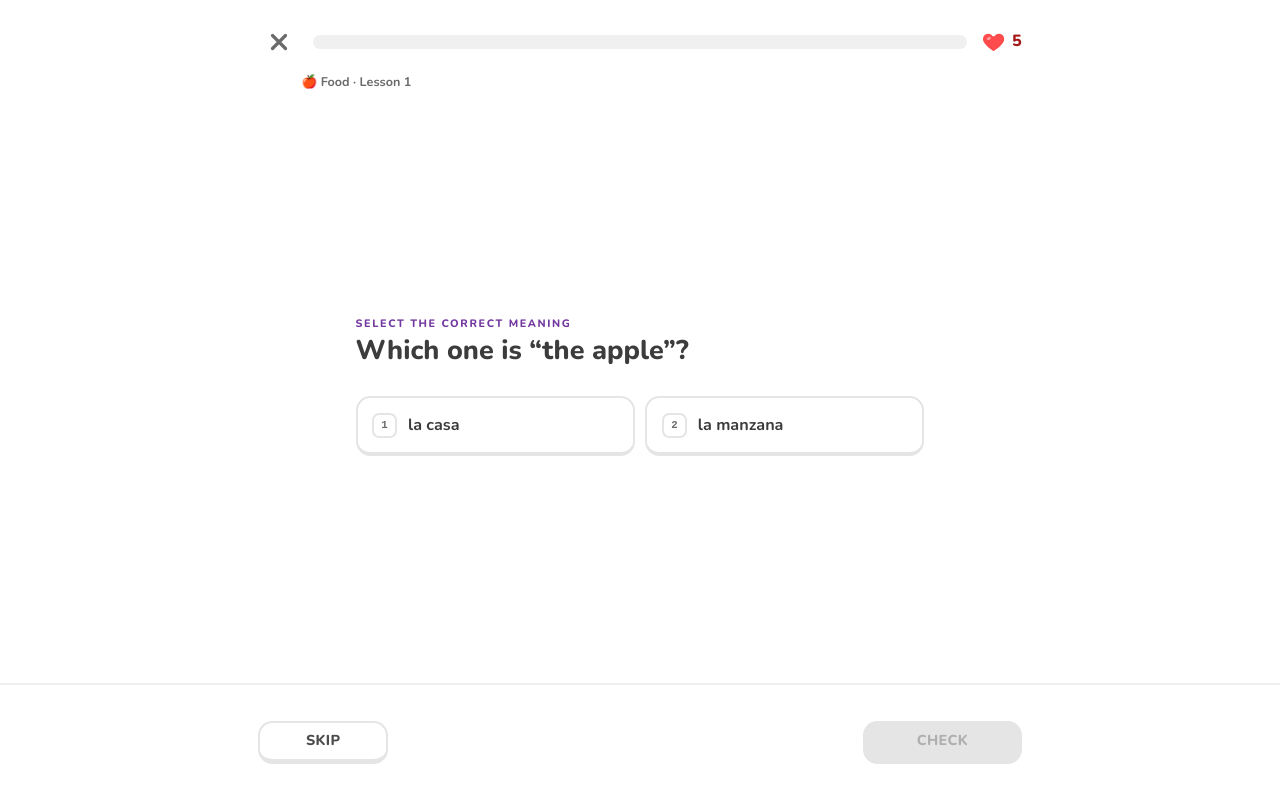
LessonPlayer › shows the out-of-hearts modal when the last heart is lost
Step 1. Click the radio button labelled "1 la casa" → [434, 425], box [356,396,635,456]
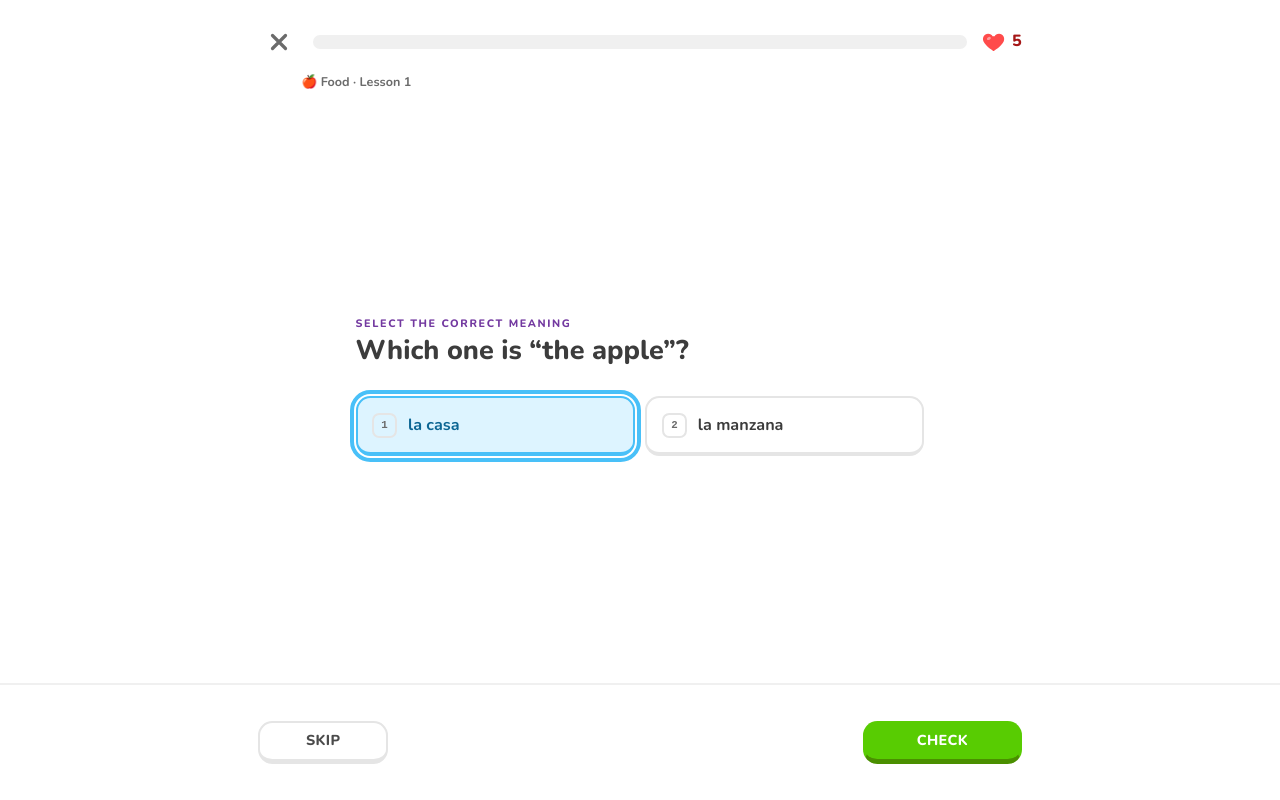
Step 2. Click the button "Check" → [942, 742], box [863,721,1022,764]
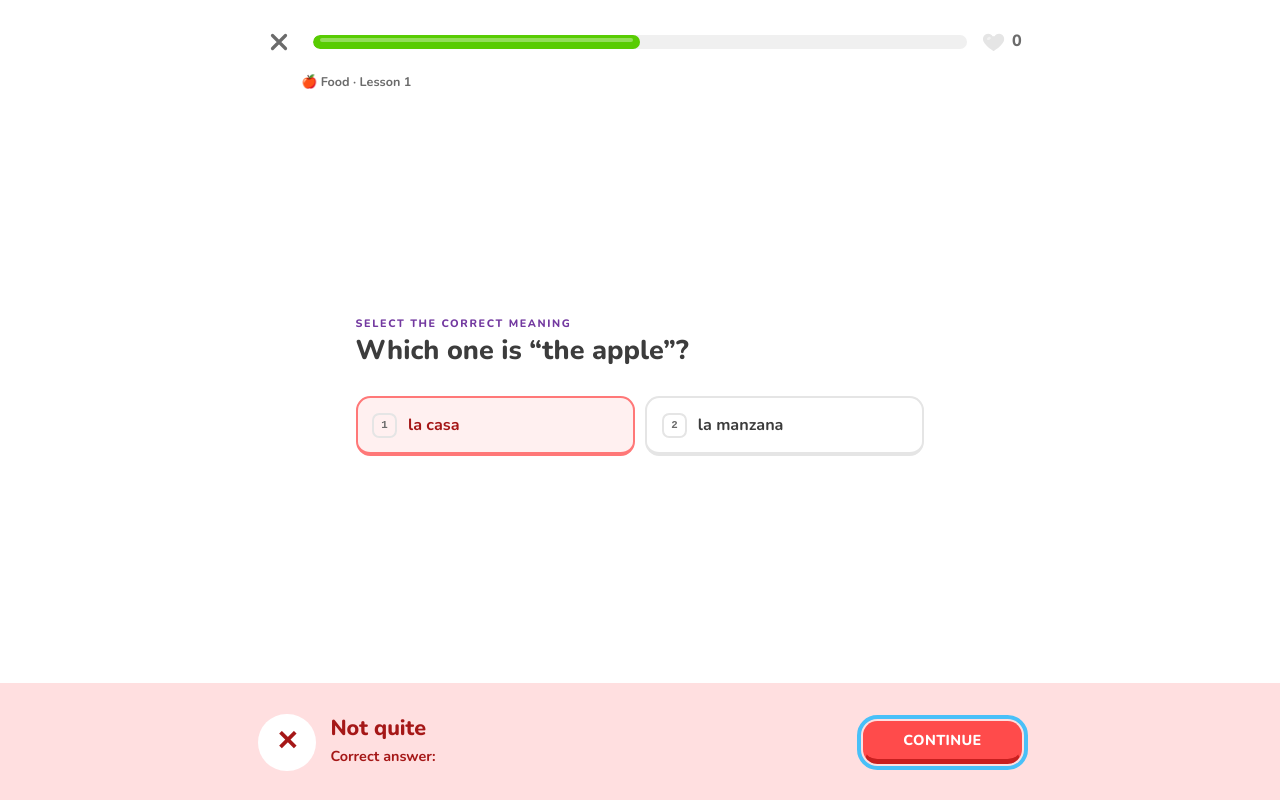
Step 3. Click the button "Continue" → [942, 742], box [863,721,1022,764]
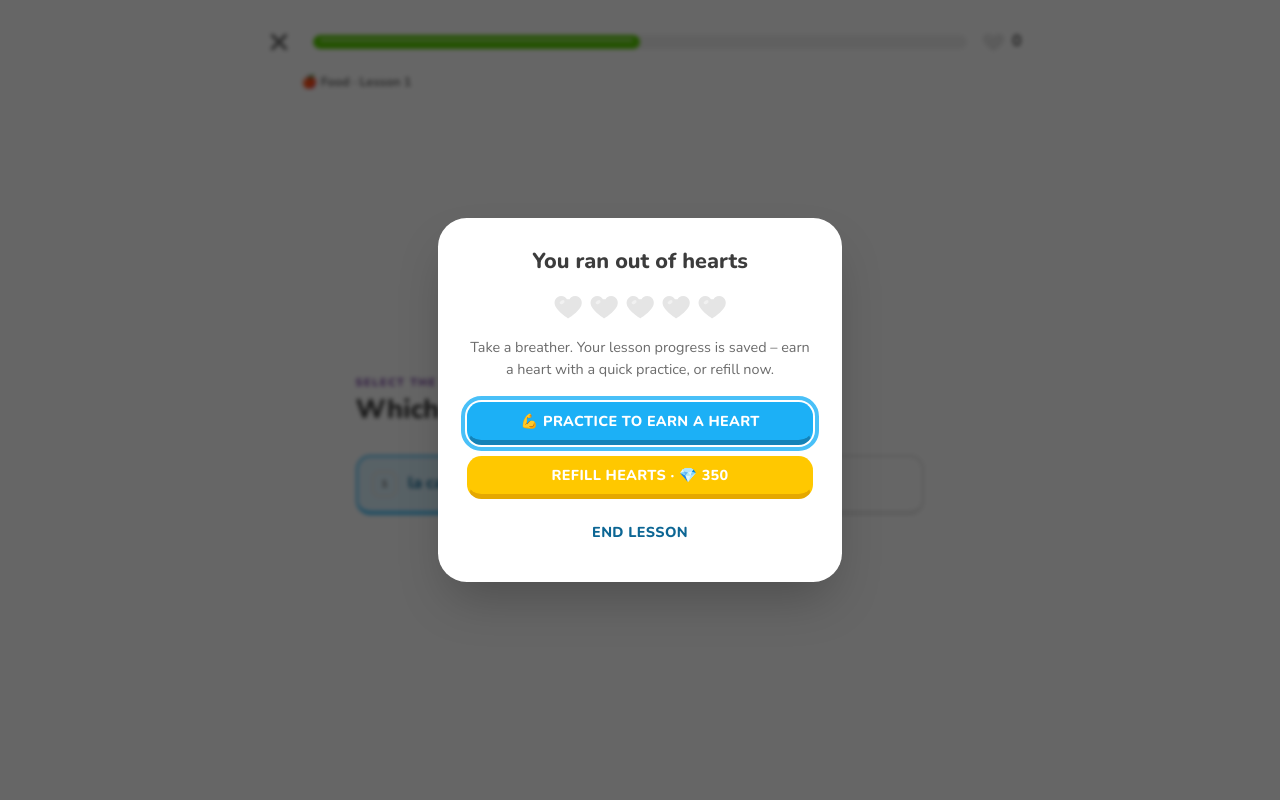
Expected: the dialog "You ran out of hearts" is shown, [438,218,842,582]
Expected: the button "💪 Practice to earn a heart" is shown, [467,402,813,445]
